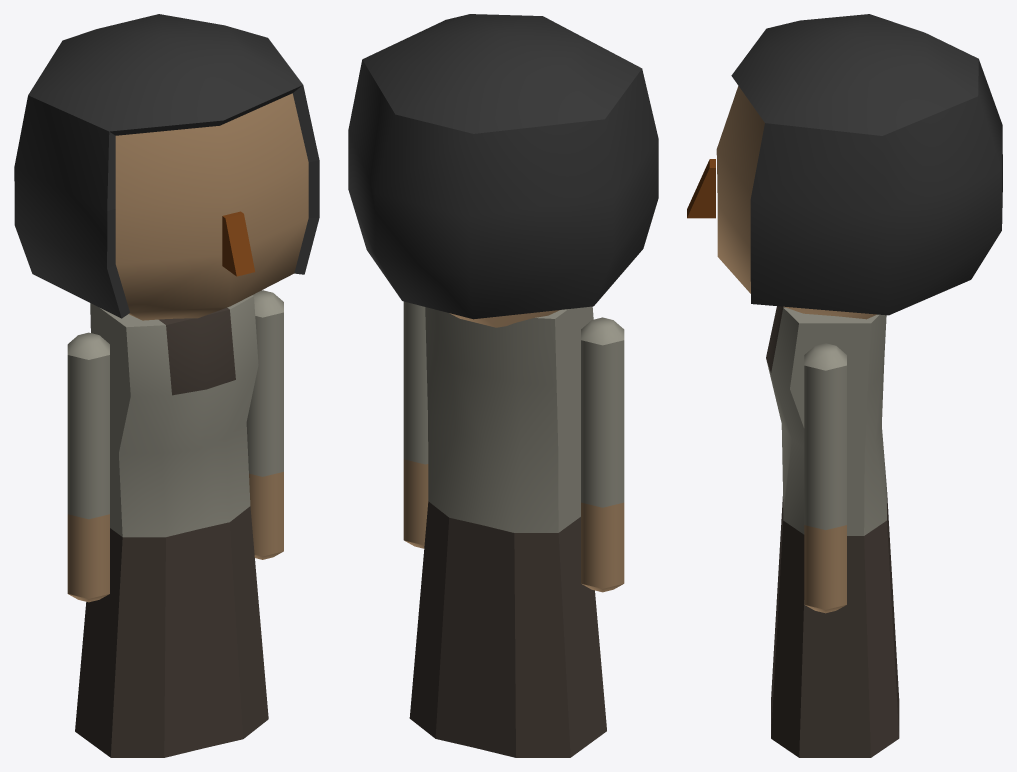
The model's file is Villager_8.FBX.
3 views of the same model, side by side, from view 1: azimuth 30°, elevation 25°; view 2: azimuth 150°, elevation 25°; view 3: azimuth 270°, elevation 25° (orthographic).
Parts seen in each view (by area): view 1: Box052; view 2: Box052; view 3: Box052.
Boxes of the visible parts, x1,y1,x2,y2 form: Box052: (14,14,319,757); Box052: (348,14,658,757); Box052: (687,14,1002,757).
Size of the model in its own units: 31.89 by 79.85 by 33.39.
